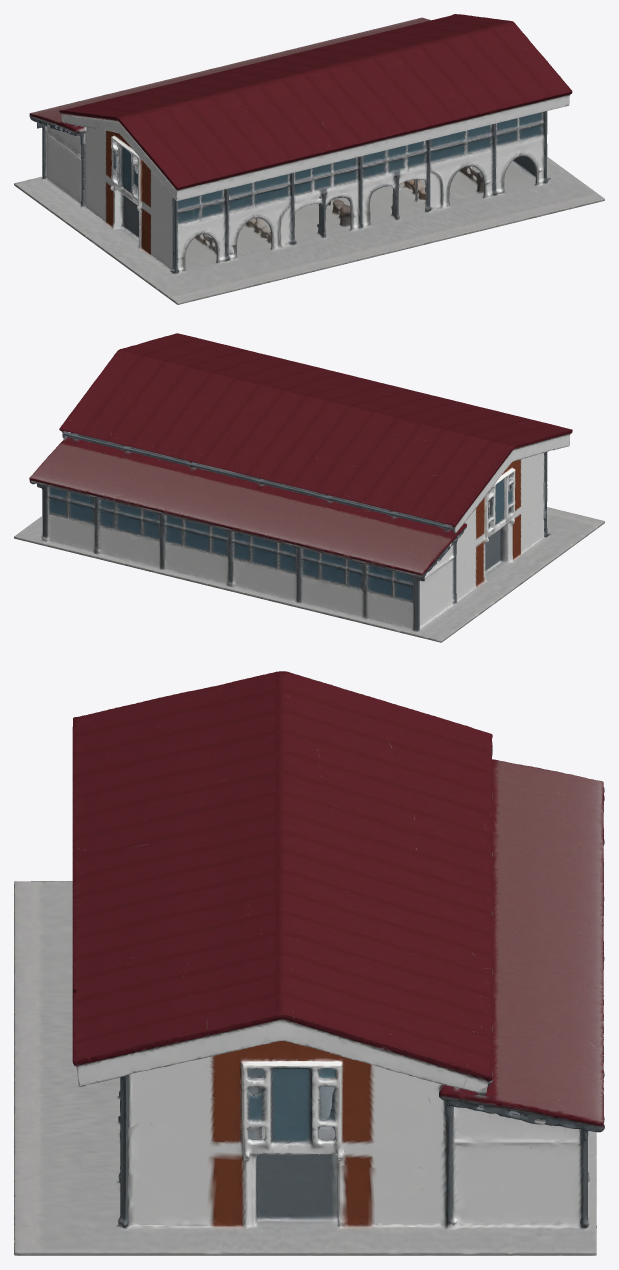
Rendered from bid_30.glb.
3 renders of one model, top to bottom at view 1: azimuth 30°, elevation 25°; view 2: azimuth 150°, elevation 25°; view 3: azimuth 270°, elevation 25°, orthographic. The views are drawn at different scales.
Size of the model in its own units: 1.9 by 0.544 by 1.28.
1 material, 1 textured.
